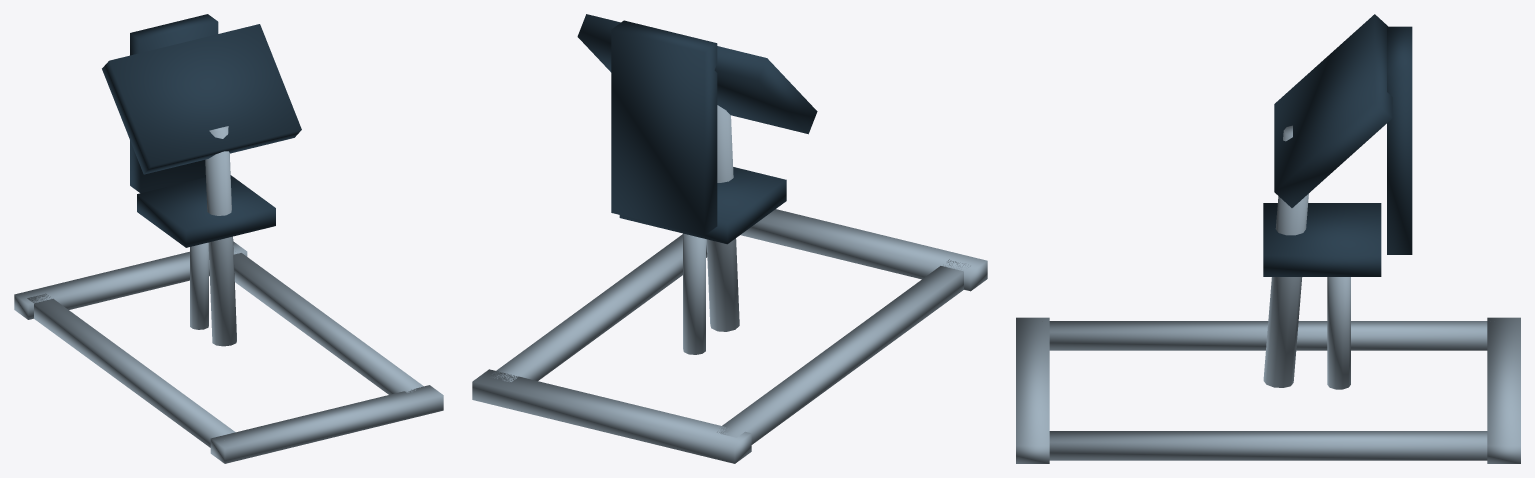
The model's file is machine_b_preacher_curl.glb.
3 renders of one model, left to right at view 1: azimuth 30°, elevation 25°; view 2: azimuth 150°, elevation 25°; view 3: azimuth 270°, elevation 25°, orthographic. The views are drawn at different scales.
Parts seen in each view (by area): view 1: base, preacher_pad, seat, pad_post, back_pad, seat_post; view 2: base, back_pad, preacher_pad, seat, pad_post, seat_post; view 3: base, preacher_pad, seat, back_pad, pad_post, seat_post.
Boxes of the visible parts, box(x1,y1,x2,y2) form: base: box(14, 241, 443, 463); preacher_pad: box(102, 24, 301, 174); seat: box(137, 175, 275, 247); pad_post: box(205, 126, 236, 346); back_pad: box(130, 14, 218, 193); seat_post: box(190, 242, 208, 329); base: box(472, 209, 987, 463); back_pad: box(611, 20, 717, 235); preacher_pad: box(577, 14, 817, 134); seat: box(619, 167, 786, 244); pad_post: box(706, 105, 739, 331); seat_post: box(683, 233, 705, 354); base: box(1016, 317, 1520, 463); preacher_pad: box(1274, 14, 1392, 207); seat: box(1263, 203, 1381, 276); back_pad: box(1387, 26, 1412, 254); pad_post: box(1263, 125, 1308, 387); seat_post: box(1327, 277, 1350, 389).
Bounding box in the file's own units: 0.9 × 1.15 × 1.5.
